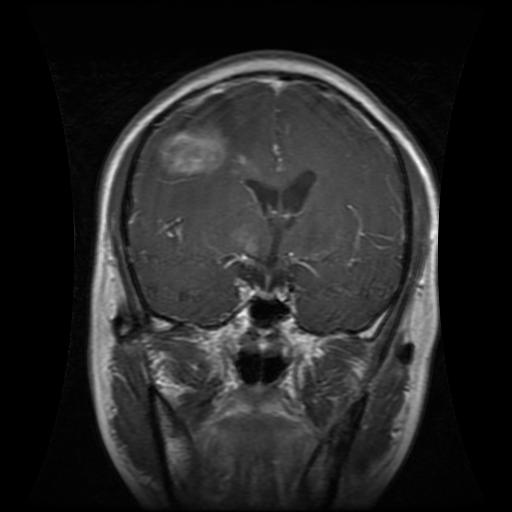Gliomia_tumour: (147, 93, 240, 180)
